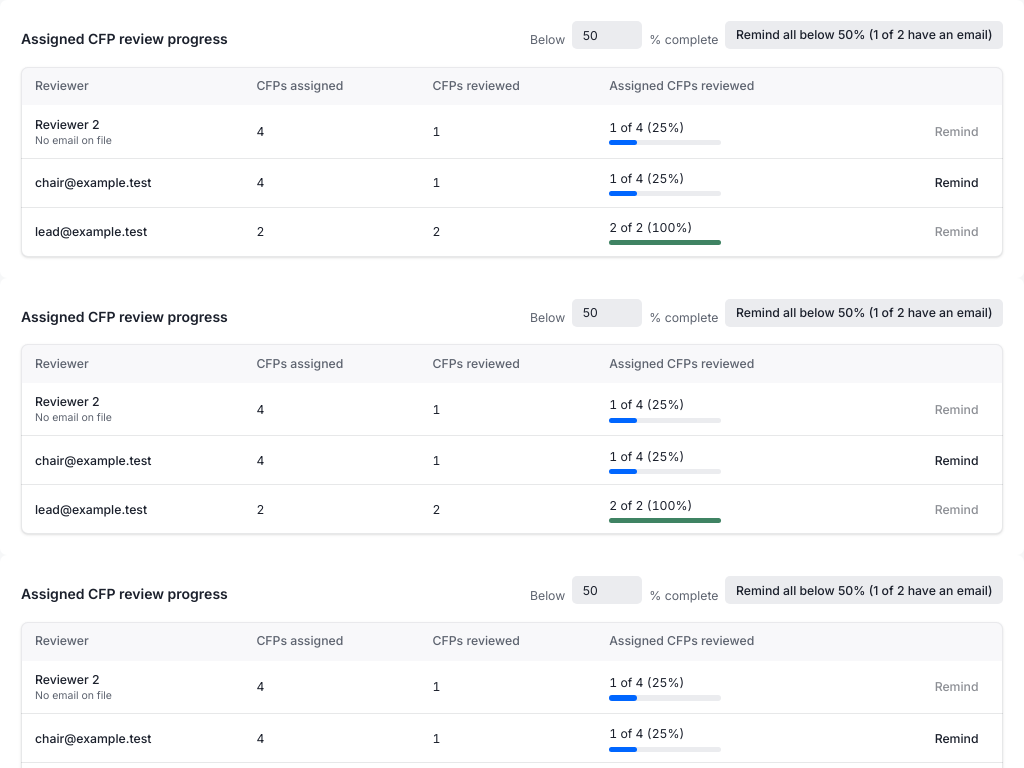
Test: ReviewerProgressPanel › sends a single reminder only after an inline confirmation, never a native dialog
The image size is (1024, 768).
Click the 8th button "Remind". click: (957, 739)
box: [924, 725, 989, 753]
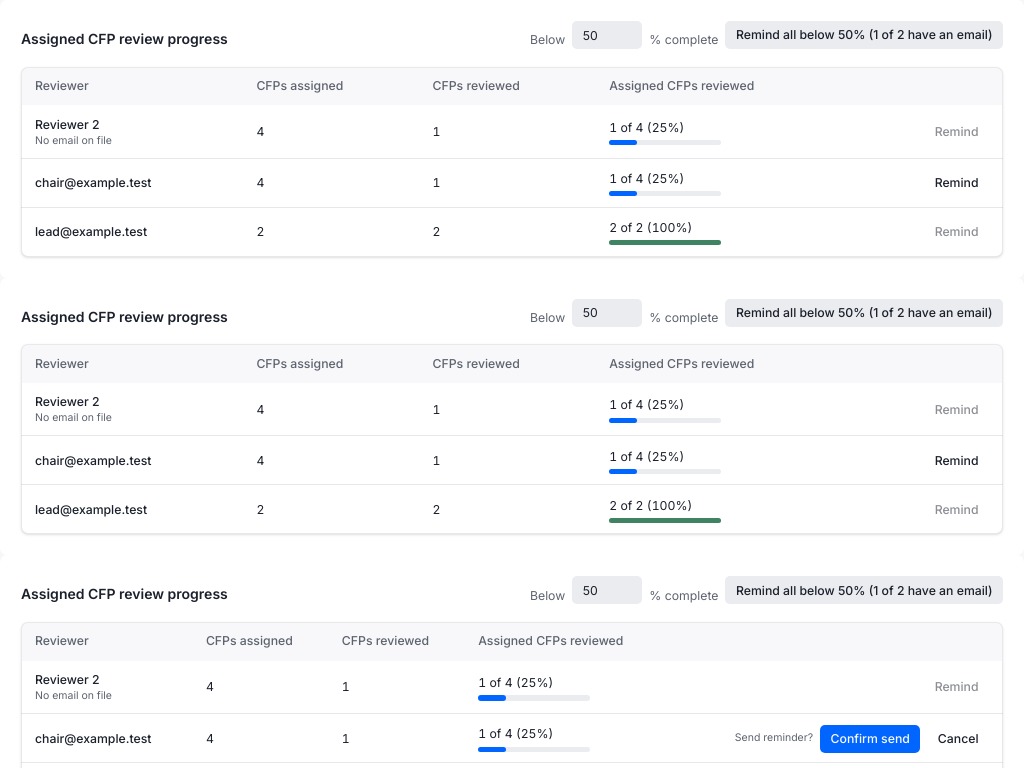
Result: the text "Send reminder?" is shown at [735, 731, 813, 746]
Click the button "Confirm send". click: (870, 739)
box: [820, 725, 920, 753]
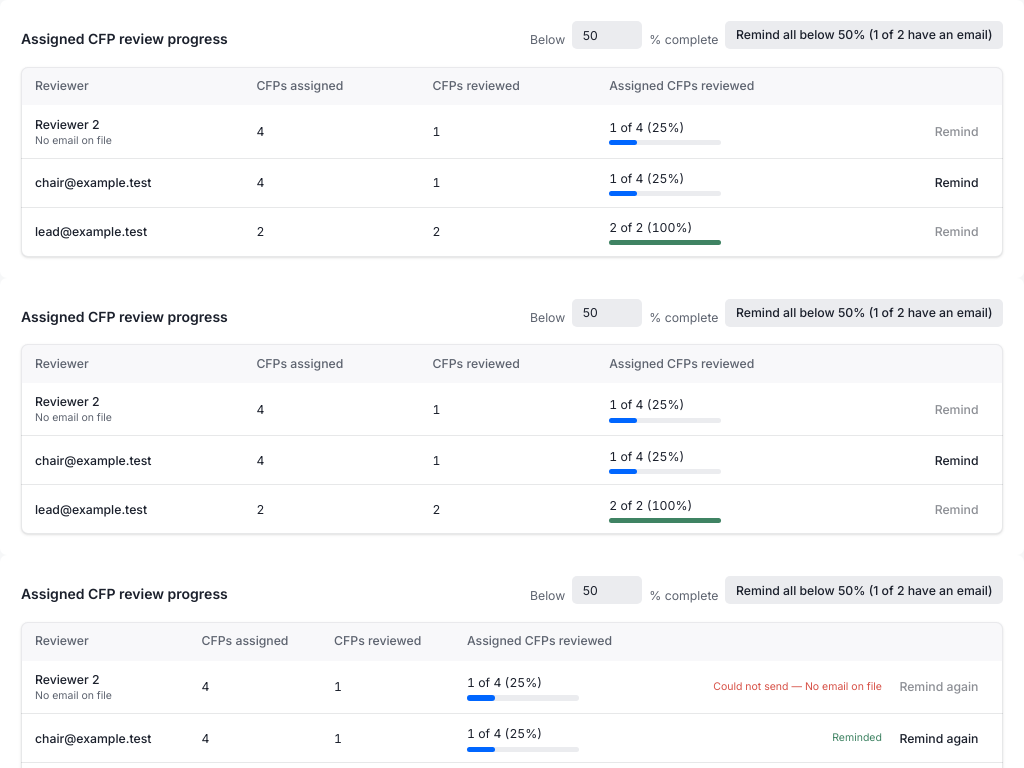
Result: the text "Reminded" is shown at [832, 731, 882, 746]
